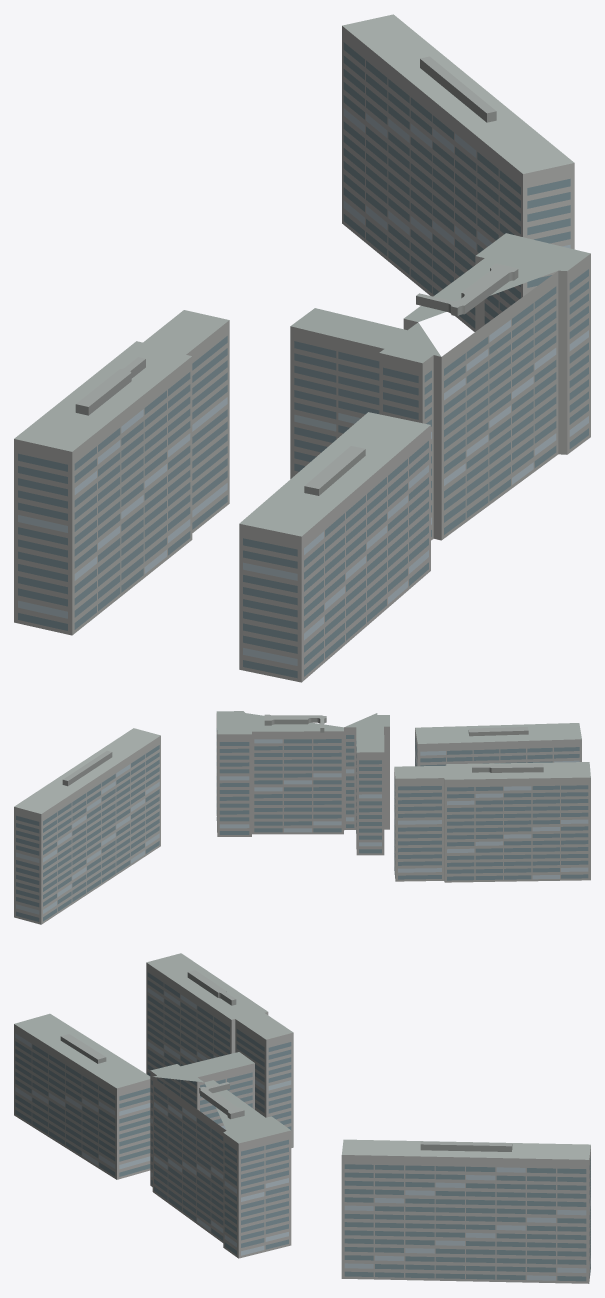
The model's file is apt-a12071001.glb.
3 renders of one model, top to bottom at view 1: azimuth 30°, elevation 25°; view 2: azimuth 150°, elevation 25°; view 3: azimuth 270°, elevation 25°, orthographic. The views are drawn at different scales.
Visible parts, largest first — view 1: apt-a12071001; view 2: apt-a12071001; view 3: apt-a12071001.
Boxes of the visible parts, x1=… form: apt-a12071001: x1=14, y1=14, x2=590, y2=682; apt-a12071001: x1=14, y1=711, x2=590, y2=924; apt-a12071001: x1=14, y1=953, x2=590, y2=1283.
Bounding box in the file's own units: 150 × 42 × 169.
